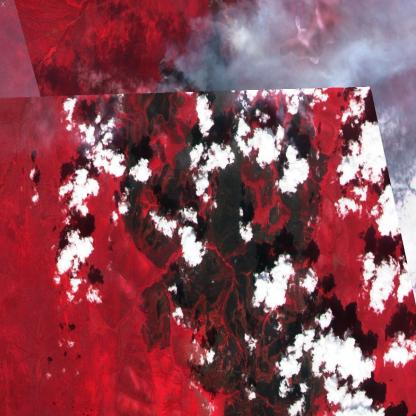fire: (158, 54, 176, 81)
